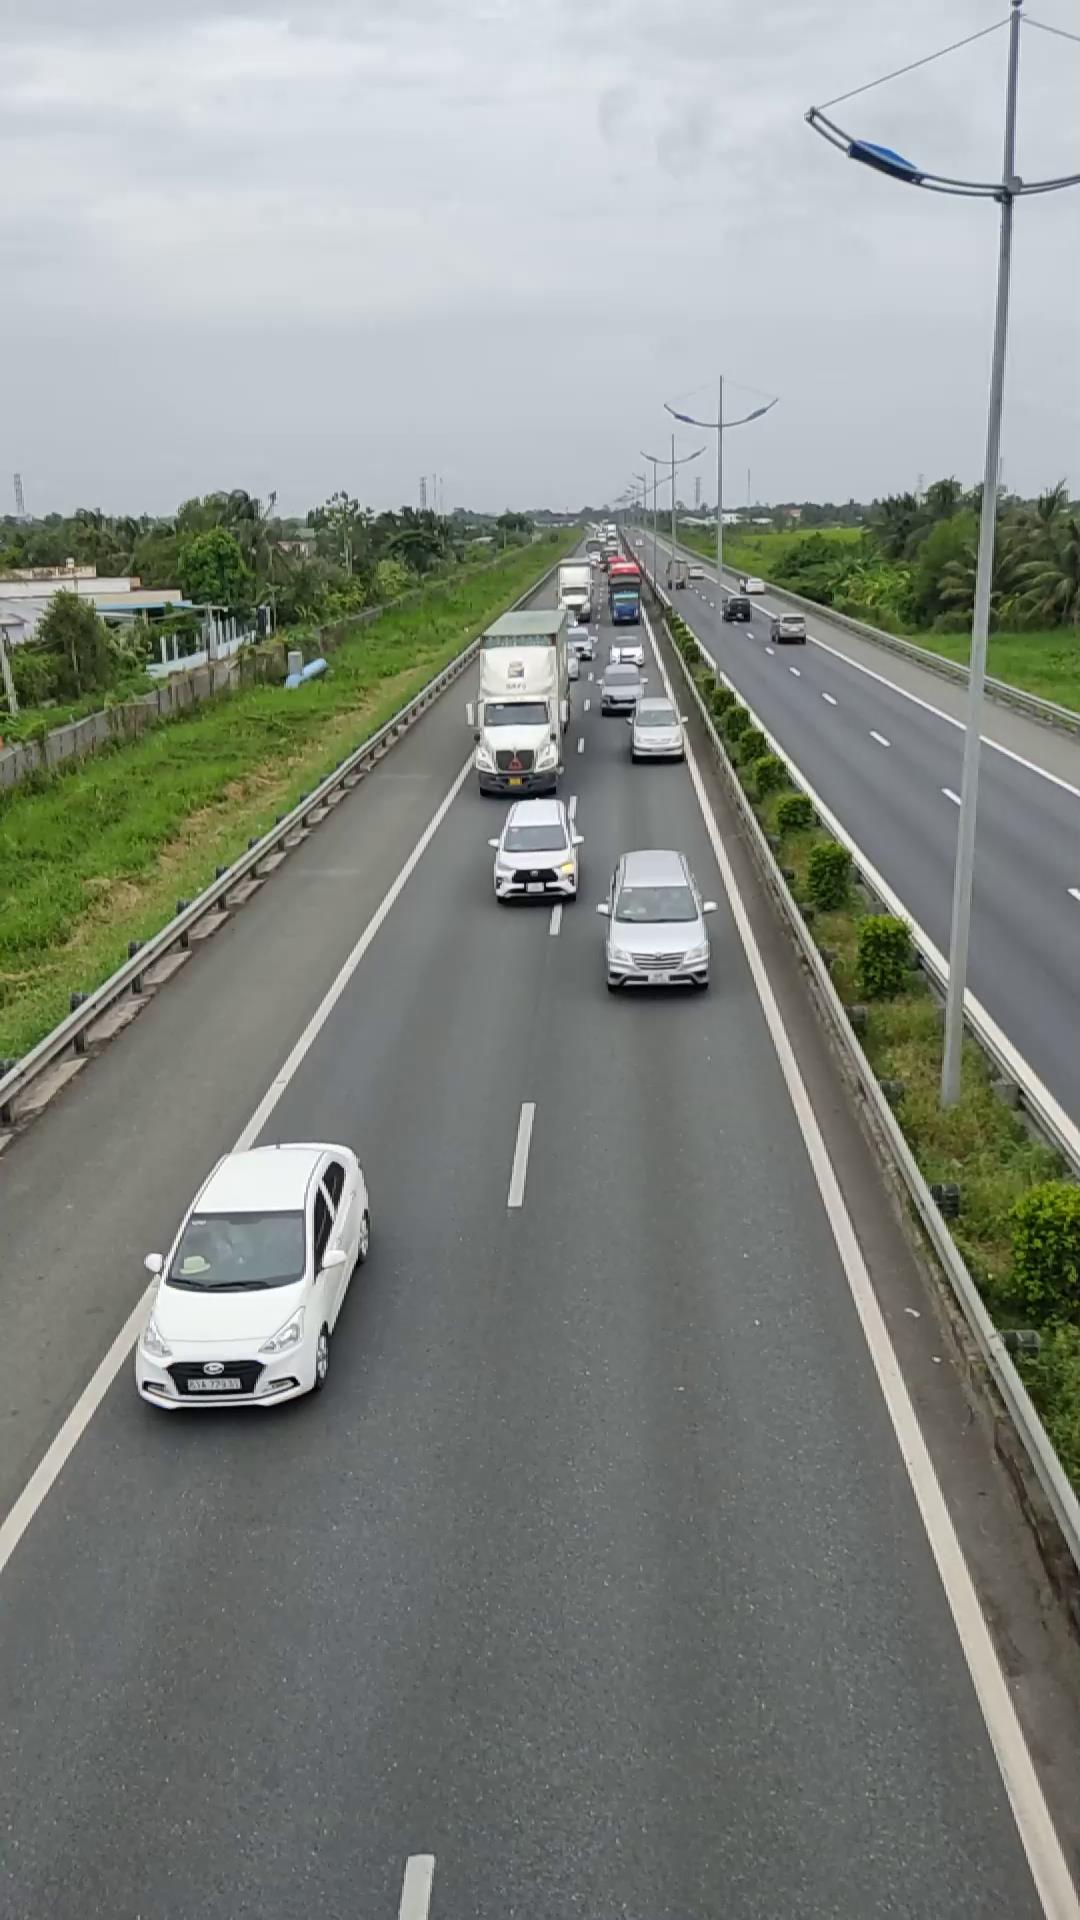car: (131, 1138, 373, 1411), (600, 847, 713, 992), (489, 796, 585, 903)
container: (469, 606, 574, 793)
